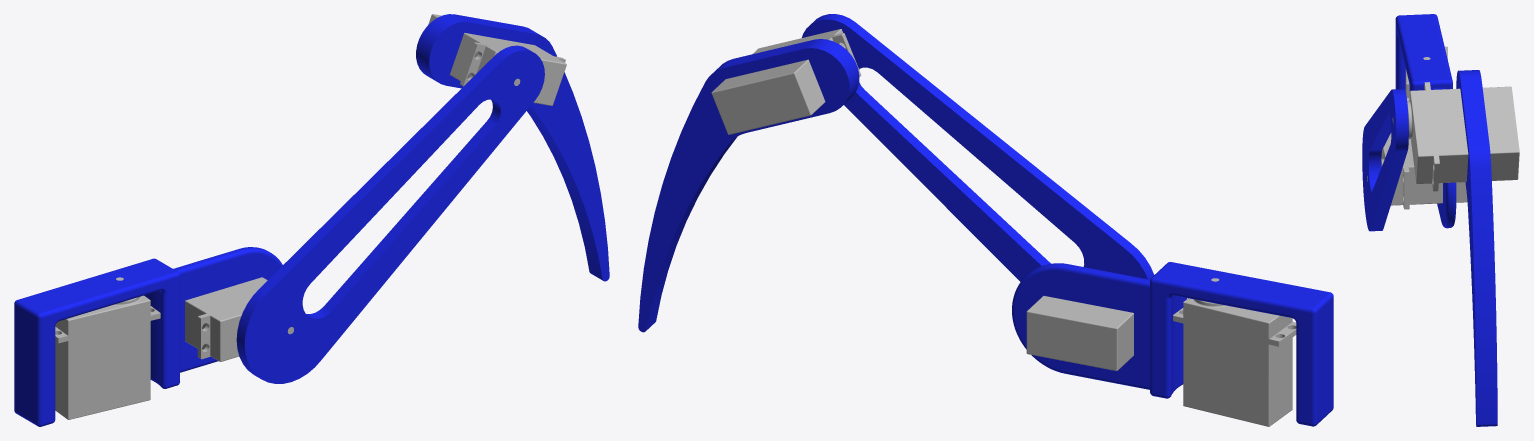
File: Spider_Robot_Coxa_Assembly_V1.glb
The picture shows the model from 3 angles, left to right: view 1: azimuth 30°, elevation 25°; view 2: azimuth 150°, elevation 25°; view 3: azimuth 270°, elevation 25°; orthographic projection. The views are drawn at different scales.
Parts seen in each view (by area): view 1: Solid1 (×6); view 2: Solid1 (×6); view 3: Solid1 (×6).
Part boxes in pixels (bbox=[...]): Solid1 (×6): bbox=[14, 14, 609, 426]; Solid1 (×6): bbox=[638, 14, 1333, 426]; Solid1 (×6): bbox=[1362, 14, 1519, 426].
Bounding box in the file's own units: 0.3131 × 0.1471 × 0.0746.
